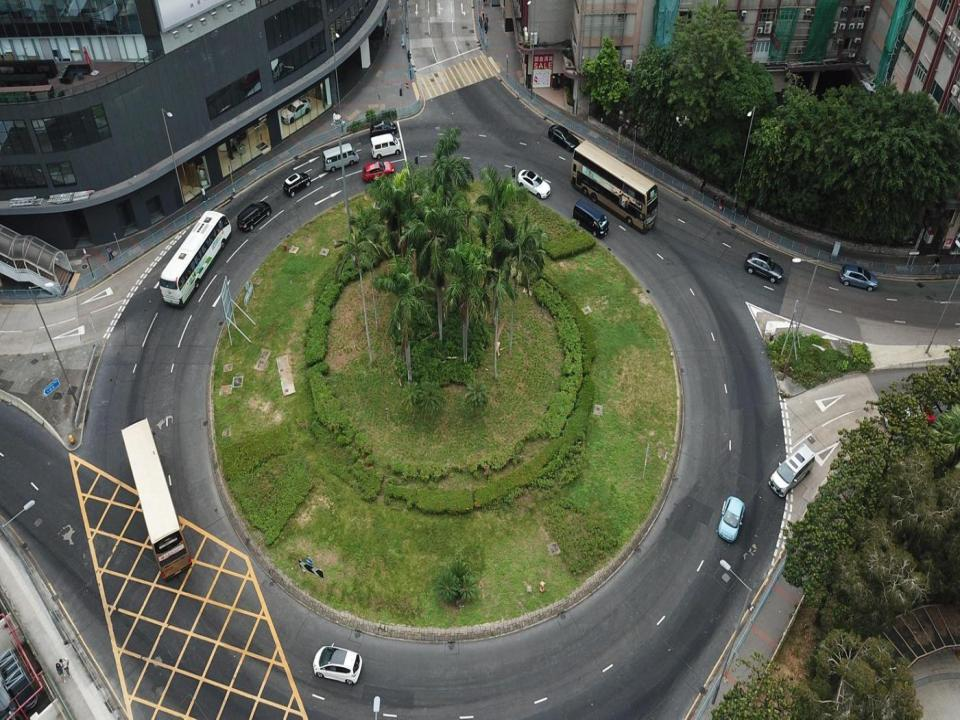bus: (117, 417, 194, 584), (571, 139, 661, 235), (158, 208, 232, 307)
car: (767, 440, 815, 498), (312, 644, 364, 686), (743, 248, 785, 283), (716, 494, 746, 542), (838, 261, 880, 294), (236, 199, 273, 231), (517, 166, 551, 199), (548, 121, 581, 150), (282, 171, 312, 196), (369, 119, 397, 138)
van: (570, 197, 611, 238), (322, 142, 360, 171), (369, 132, 405, 160), (362, 160, 396, 184)
